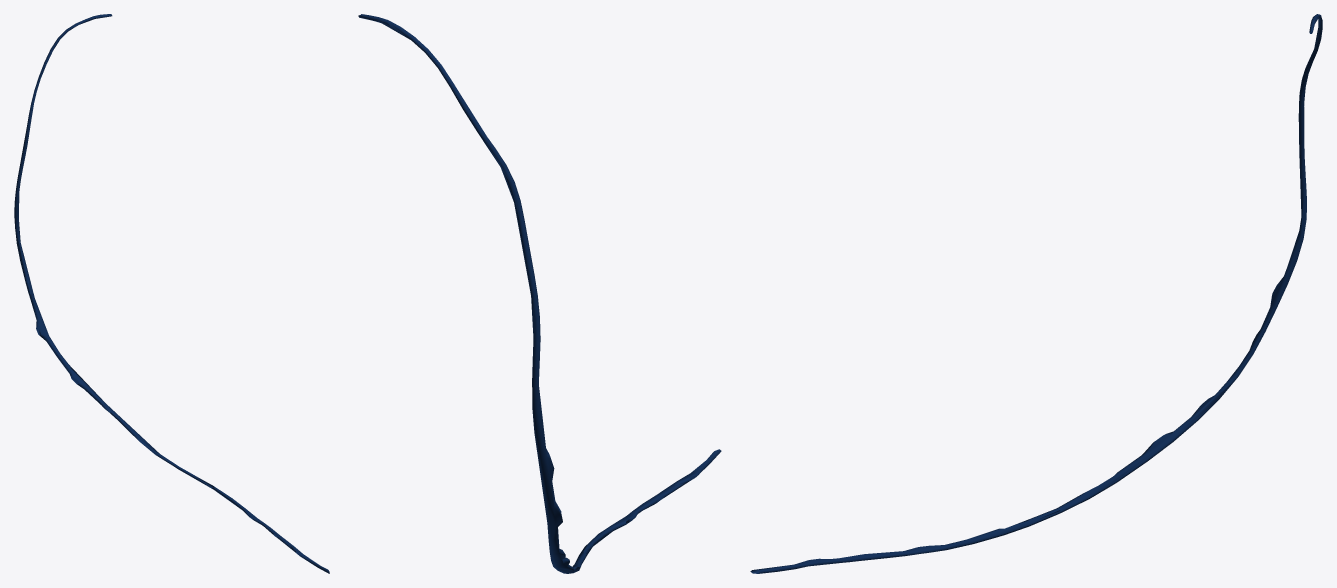
The model's file is R vena musculophrenica.fbx.
The picture shows the model from 3 angles, left to right: view 1: azimuth 30°, elevation 25°; view 2: azimuth 150°, elevation 25°; view 3: azimuth 270°, elevation 25°; orthographic projection. The views are drawn at different scales.
Parts seen in each view (by area): view 1: R vena musculophrenica, R vena musculophrenica low; view 2: R vena musculophrenica, R vena musculophrenica low; view 3: R vena musculophrenica, R vena musculophrenica low.
Part boxes in pixels (x1,y1,x2,y2): R vena musculophrenica: (14,14,329,573); R vena musculophrenica low: (16,14,329,573); R vena musculophrenica: (358,14,719,573); R vena musculophrenica low: (369,19,721,571); R vena musculophrenica: (750,14,1322,573); R vena musculophrenica low: (751,17,1321,573).
Size of the model in its own units: 11.11 by 40.24 by 38.7.
